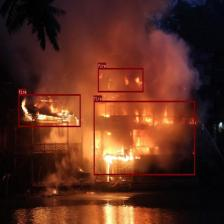fire: (94, 100, 195, 175), (18, 93, 80, 126), (98, 68, 143, 92)
